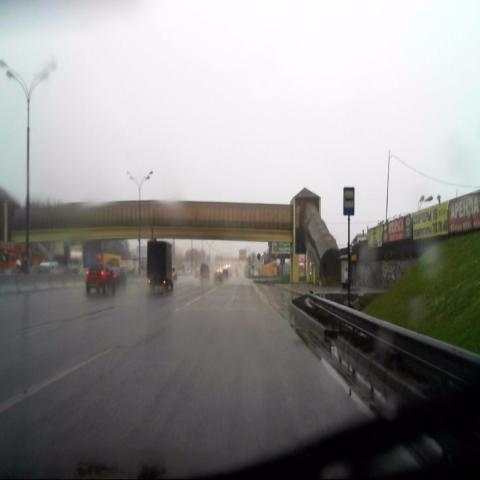5_16: (344, 187, 354, 215)
